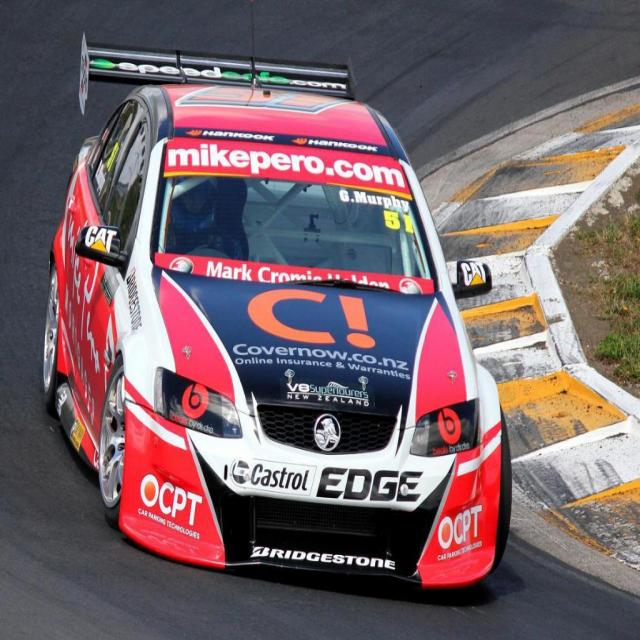other: (36, 65, 518, 592)
